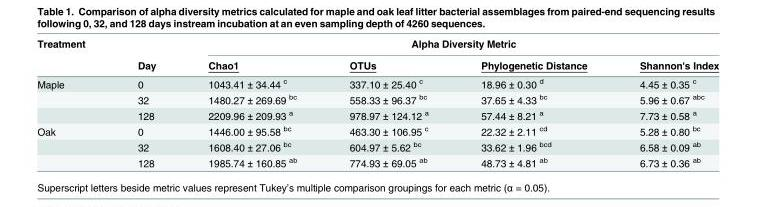table: (36, 37, 718, 168)
table column: (454, 37, 612, 168), (181, 37, 322, 168), (322, 37, 454, 168), (612, 37, 718, 168), (36, 37, 110, 168), (110, 37, 181, 168)
table column header: (36, 37, 718, 73)
table row: (36, 53, 718, 73), (36, 73, 718, 90), (36, 37, 718, 53), (36, 90, 718, 106), (36, 106, 718, 122), (36, 122, 718, 138), (36, 138, 718, 154), (36, 154, 718, 168)
table spanning cell: (181, 37, 718, 53), (36, 73, 110, 122), (36, 122, 110, 168), (36, 37, 110, 73), (110, 37, 181, 73)
